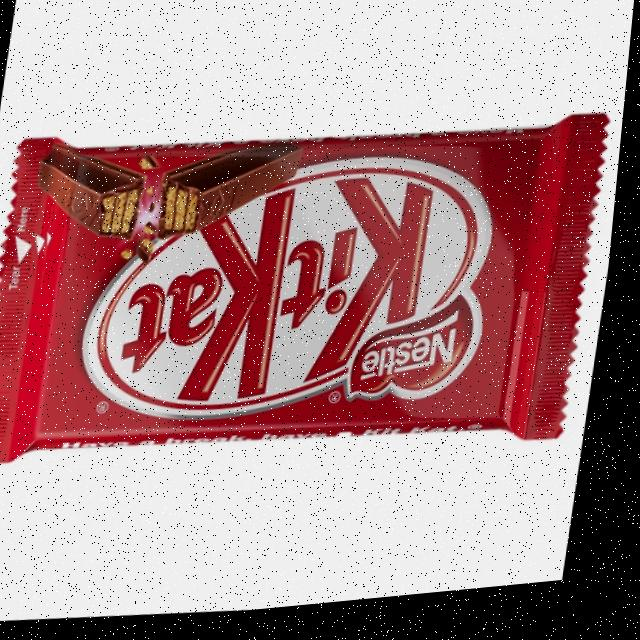kitkat: (0, 92, 618, 494)
